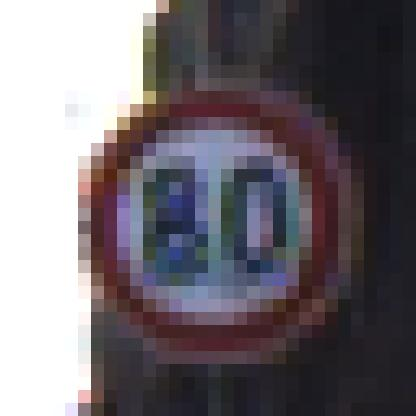Speed Limit 80: (82, 89, 347, 356)
